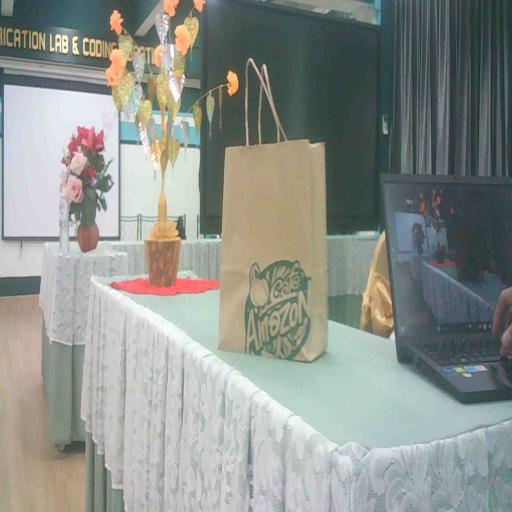bag: (217, 136, 332, 364)
